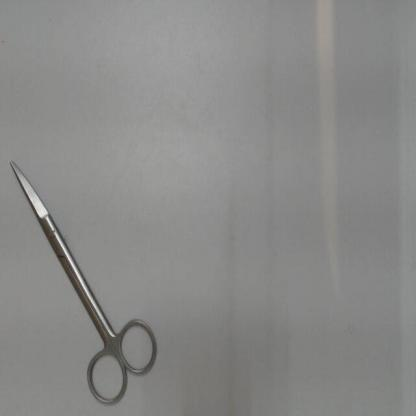Curved Mayo Scissors: (4, 154, 164, 414)
